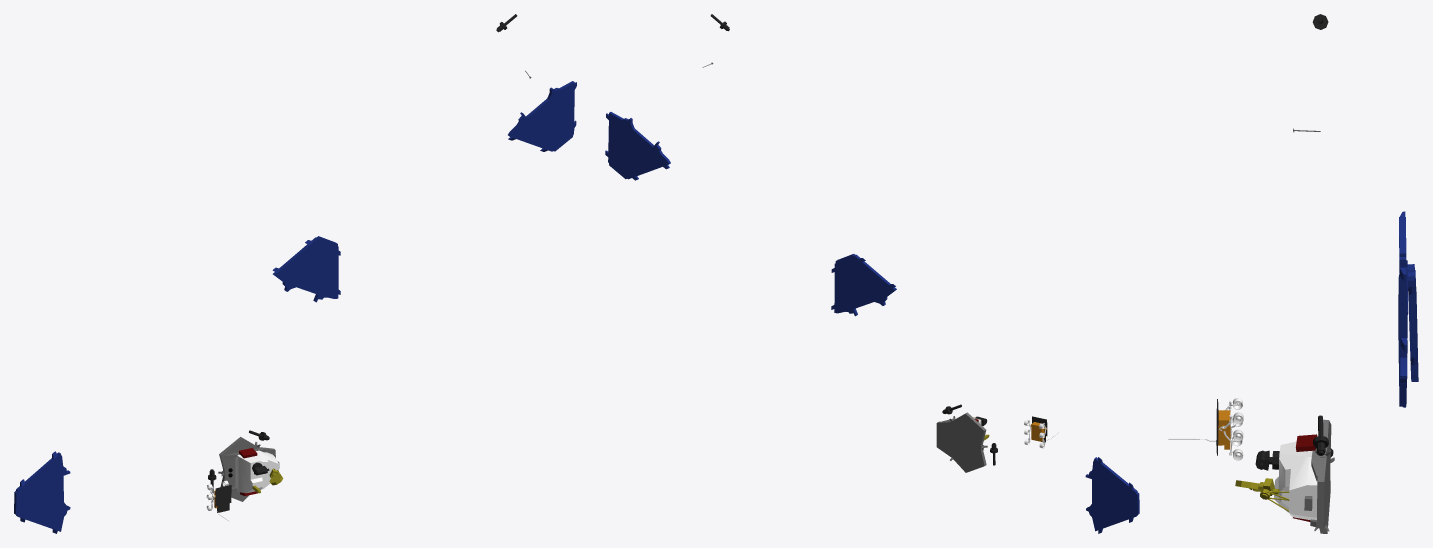
The model's file is pathfinder-surface-ops.glb.
The picture shows the model from 3 angles, left to right: view 1: azimuth 30°, elevation 25°; view 2: azimuth 150°, elevation 25°; view 3: azimuth 270°, elevation 25°; orthographic projection. The views are drawn at different scales.
Size of the model in its own units: 11.9 by 8.67 by 2.54.
